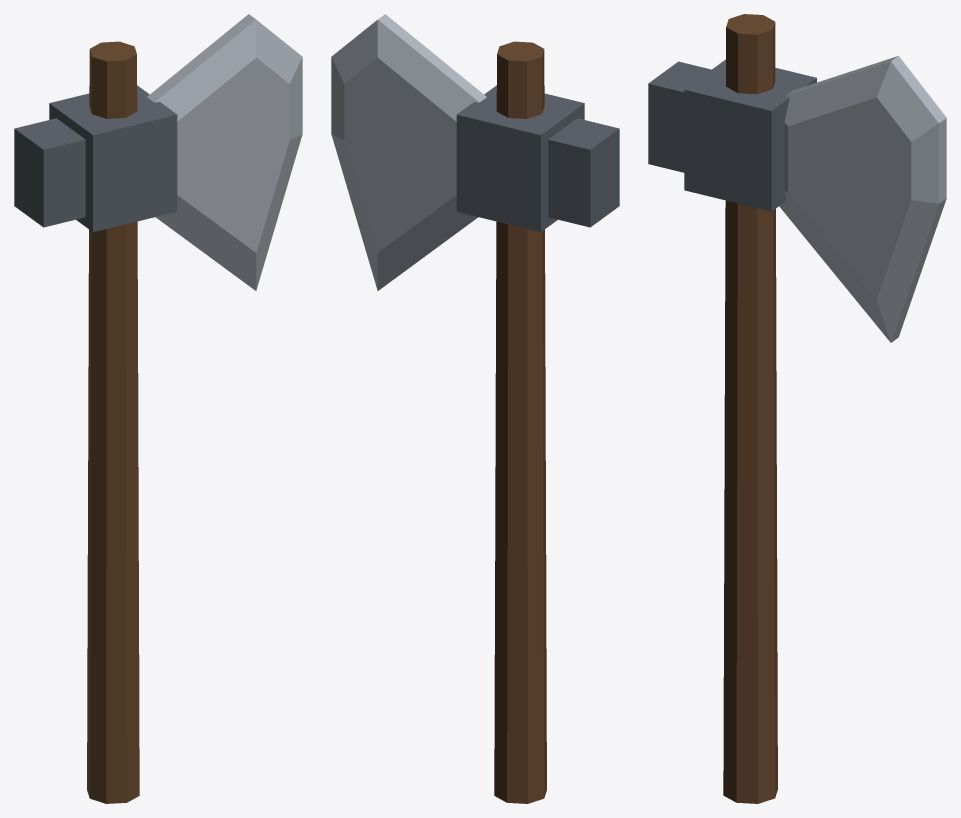
Rendered from g-handaxe.glb.
3 views of the same model, side by side, from view 1: azimuth 30°, elevation 25°; view 2: azimuth 150°, elevation 25°; view 3: azimuth 330°, elevation 25° (orthographic). The views are drawn at different scales.
Visible parts, largest first — view 1: g-handaxe; view 2: g-handaxe; view 3: g-handaxe.
Boxes of the visible parts, left/top/right/bottom form: g-handaxe: left=14, top=14, right=302, bottom=803; g-handaxe: left=331, top=14, right=619, bottom=803; g-handaxe: left=648, top=14, right=946, bottom=803.
Size of the model in its own units: 0.16 by 0.4205 by 0.045.
